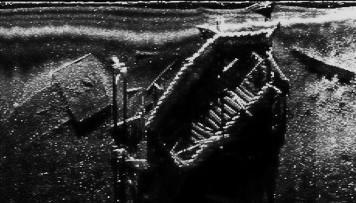ship: (105, 21, 291, 172), (5, 52, 114, 150)
